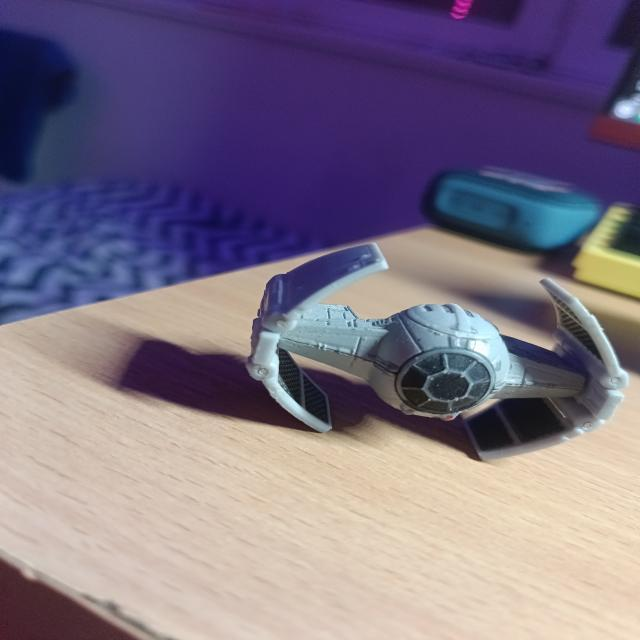tie fighter: (246, 243, 628, 460)
